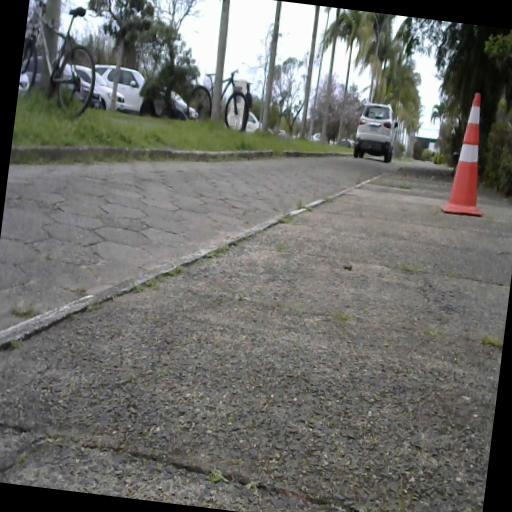cone: (442, 86, 496, 223)
